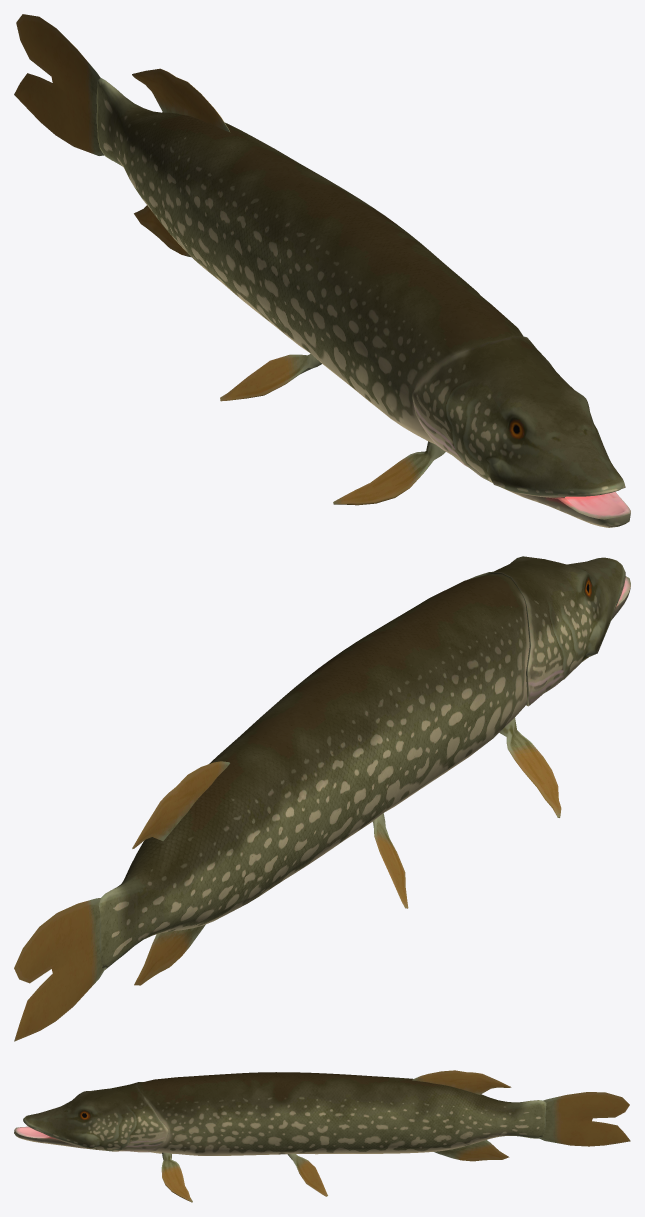
File: pike.glb
The picture shows the model from 3 angles, top to bottom: view 1: azimuth 30°, elevation 25°; view 2: azimuth 150°, elevation 25°; view 3: azimuth 270°, elevation 25°; orthographic projection. The views are drawn at different scales.
Parts seen in each view (by area): view 1: Northern_Spotted_Pike; view 2: Northern_Spotted_Pike; view 3: Northern_Spotted_Pike.
Part boxes in pixels (x1,y1,x2,y2): Northern_Spotted_Pike: (14, 14, 630, 527); Northern_Spotted_Pike: (14, 556, 630, 1041); Northern_Spotted_Pike: (14, 1070, 630, 1202).
Size of the model in its own units: 0.6471 by 0.5608 by 3.01.
1 material, 1 textured.
